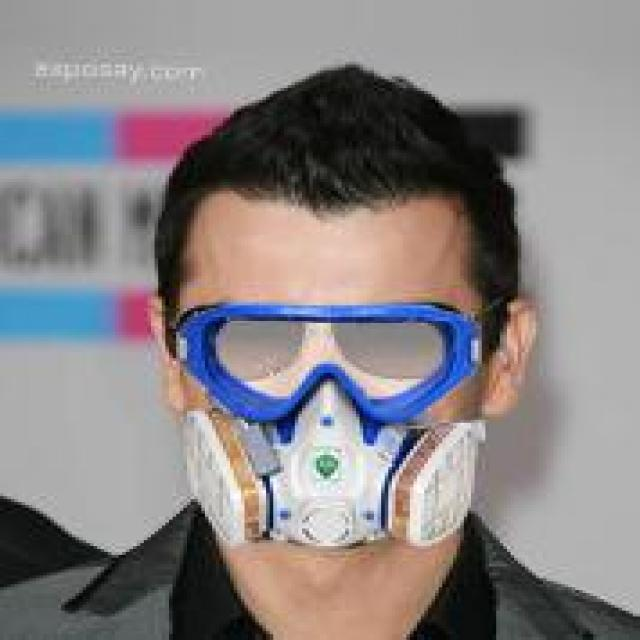mask: (108, 50, 554, 558)
